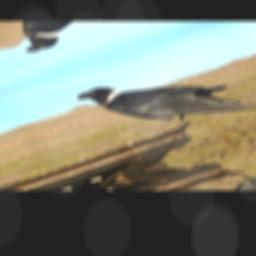Crow: (70, 51, 256, 151)
